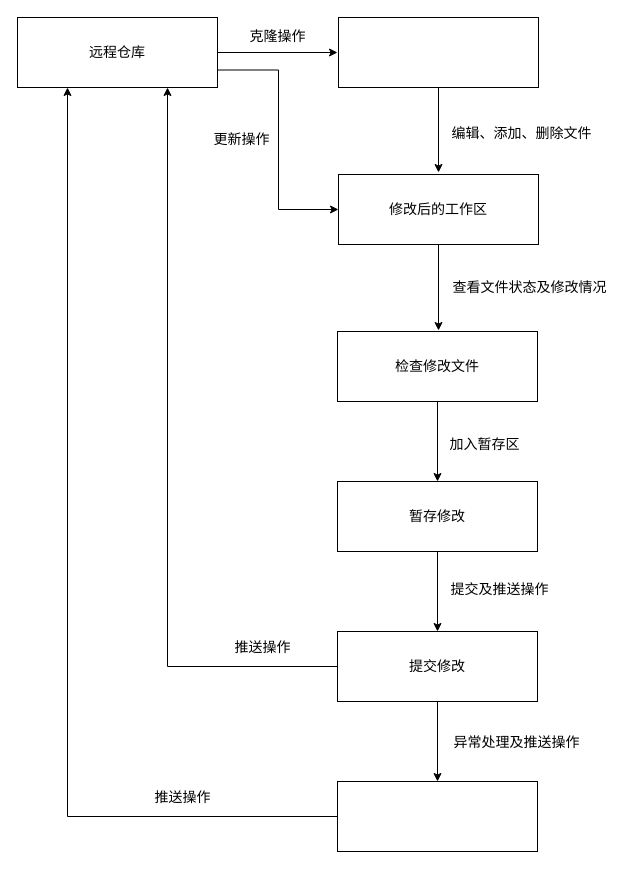
Some shapes in this 632 by 869 pixel diagram are drawn without their labels. The centre of each missing label's shape, as x and y in pixels:
"处理异常" belongs at [437,816].
"本地工作区" belongs at [438,52].
